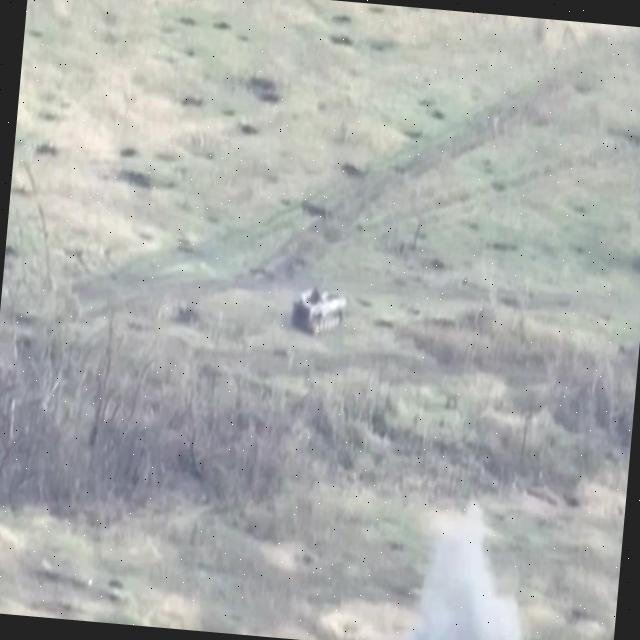AIFV: (283, 282, 351, 342)
